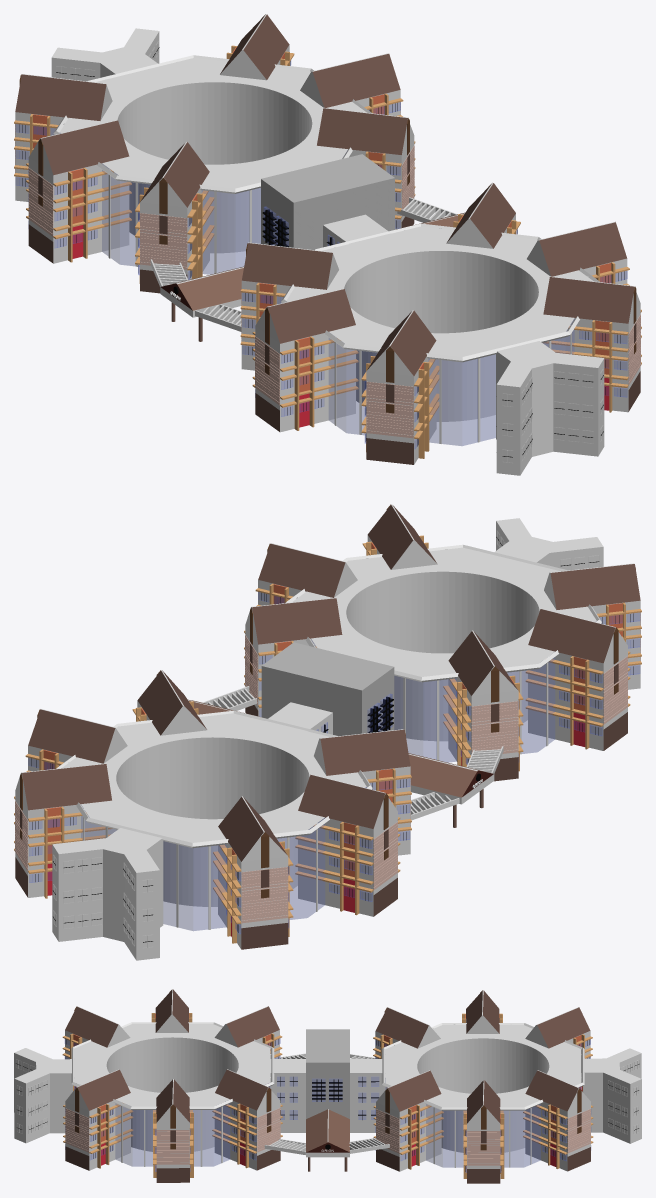
Rendered from orion.glb.
3 views of the same model, one above another, from view 1: azimuth 30°, elevation 25°; view 2: azimuth 150°, elevation 25°; view 3: azimuth 270°, elevation 25° (orthographic). The views are drawn at different scales.
Parts seen in each view (by area): view 1: Cube; view 2: Cube; view 3: Cube.
Boxes of the visible parts, x1,y1,x2,y2 form: Cube: (14,14,641,475); Cube: (14,504,641,960); Cube: (14,989,641,1183).
Size of the model in its own units: 104 by 33.34 by 237.
